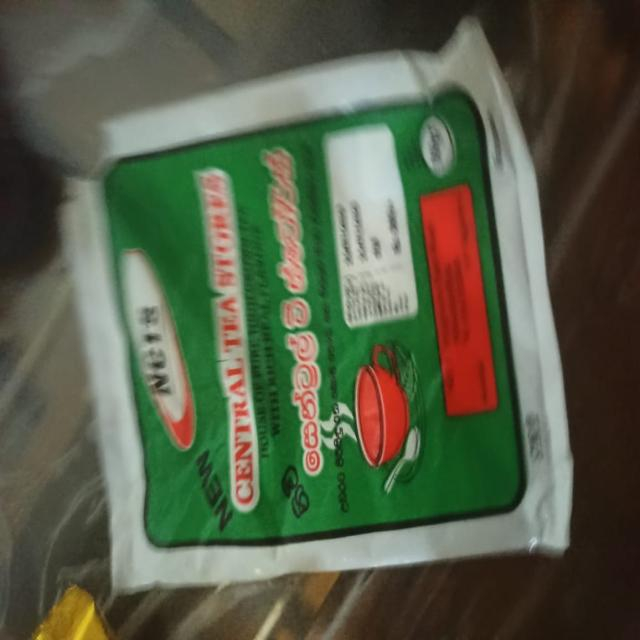Central Tea: (25, 70, 608, 586)
